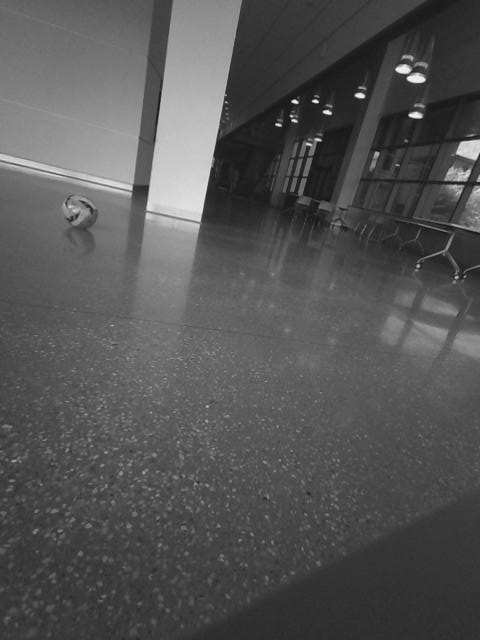ball: (61, 190, 102, 229)
